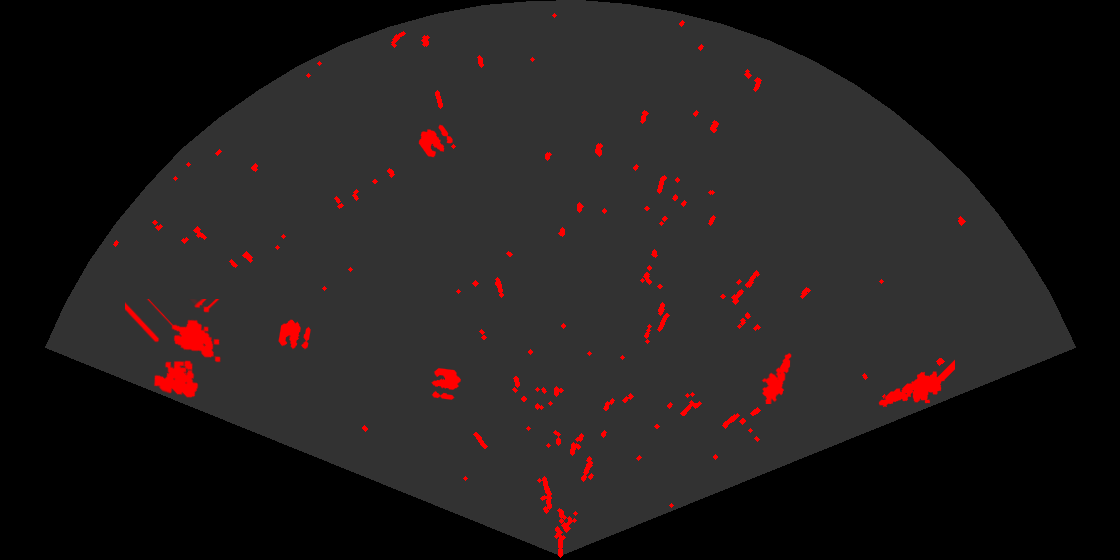ball: (417, 123, 454, 159), (277, 318, 312, 351), (430, 366, 462, 401)
cage: (125, 299, 222, 399)
frogman: (877, 358, 955, 409), (760, 351, 793, 404)
